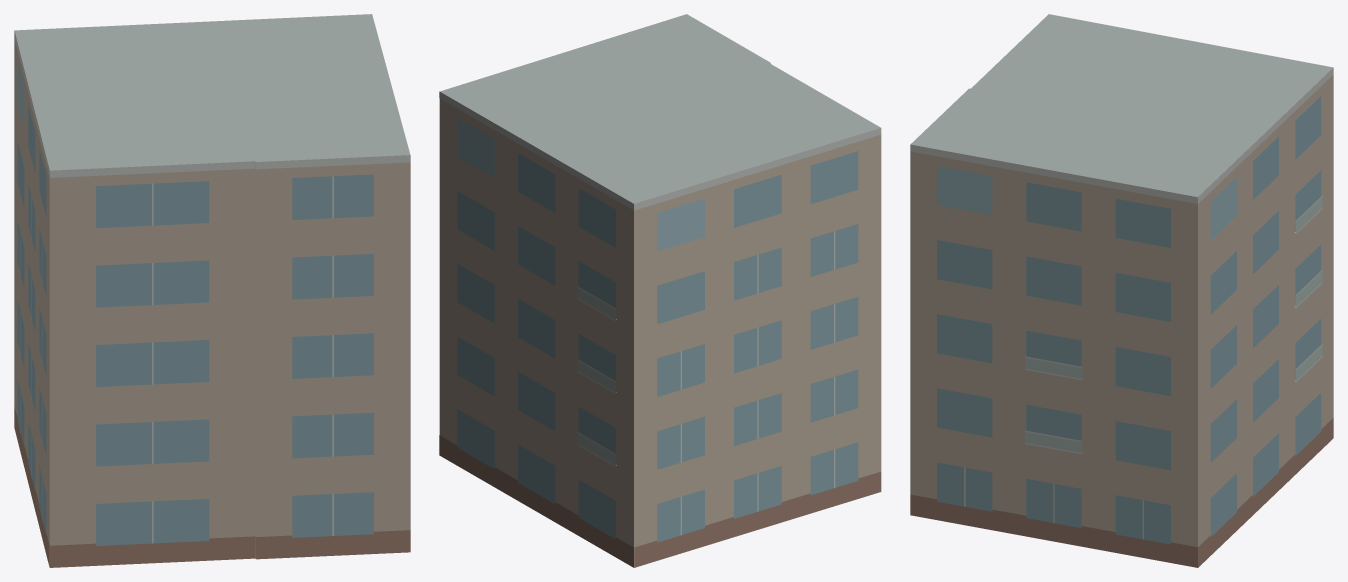
File: survey-upis-32532388.glb
The picture shows the model from 3 angles, left to right: view 1: azimuth 30°, elevation 25°; view 2: azimuth 150°, elevation 25°; view 3: azimuth 270°, elevation 25°; orthographic projection. The views are drawn at different scales.
Parts seen in each view (by area): view 1: survey-upis-32532388.tmp; view 2: survey-upis-32532388.tmp; view 3: survey-upis-32532388.tmp.
Boxes of the visible parts, bbox=[...] form: survey-upis-32532388.tmp: bbox=[14, 14, 410, 567]; survey-upis-32532388.tmp: bbox=[439, 14, 881, 567]; survey-upis-32532388.tmp: bbox=[910, 14, 1333, 567].
Bounding box in the file's own units: 14 × 13.2 × 13.67.
